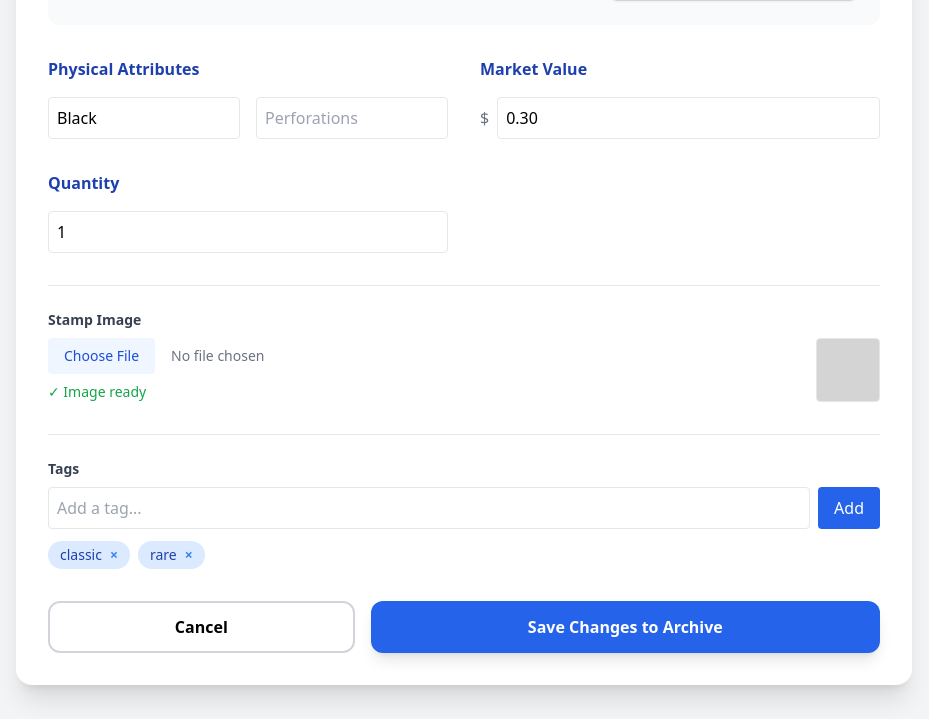
Test: EditStampPage - tag editing › adds a new tag when Enter is pressed
(page scrolled)
Type "penny" into the field with placeholder "Add a tag..." at point(429, 508), box [48,487,810,529]
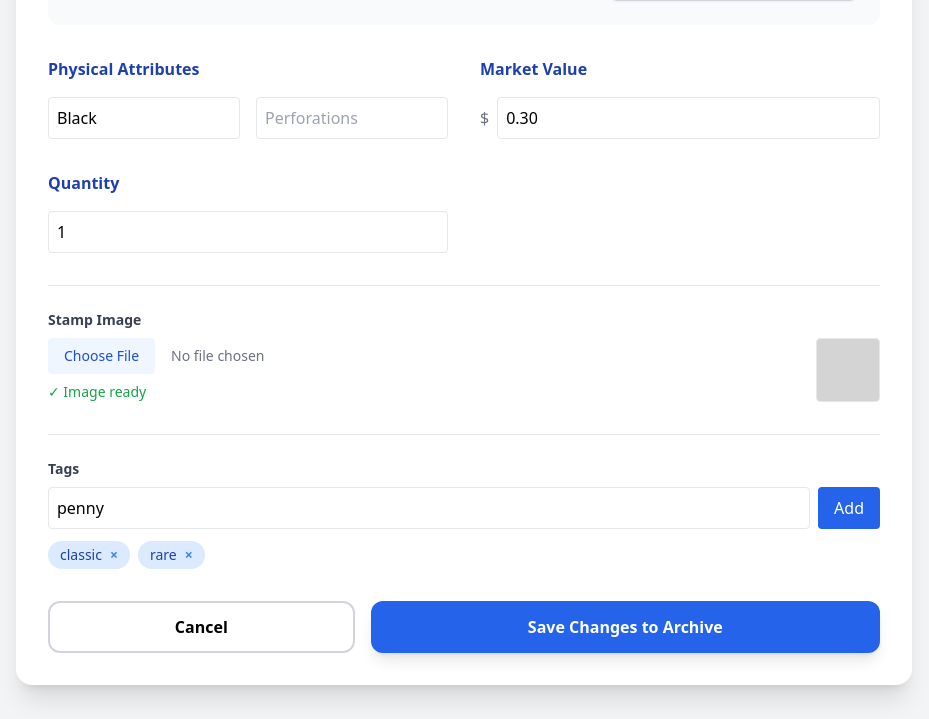
Press Enter in the field with placeholder "Add a tag..." below "Tags", box [48,487,810,529]
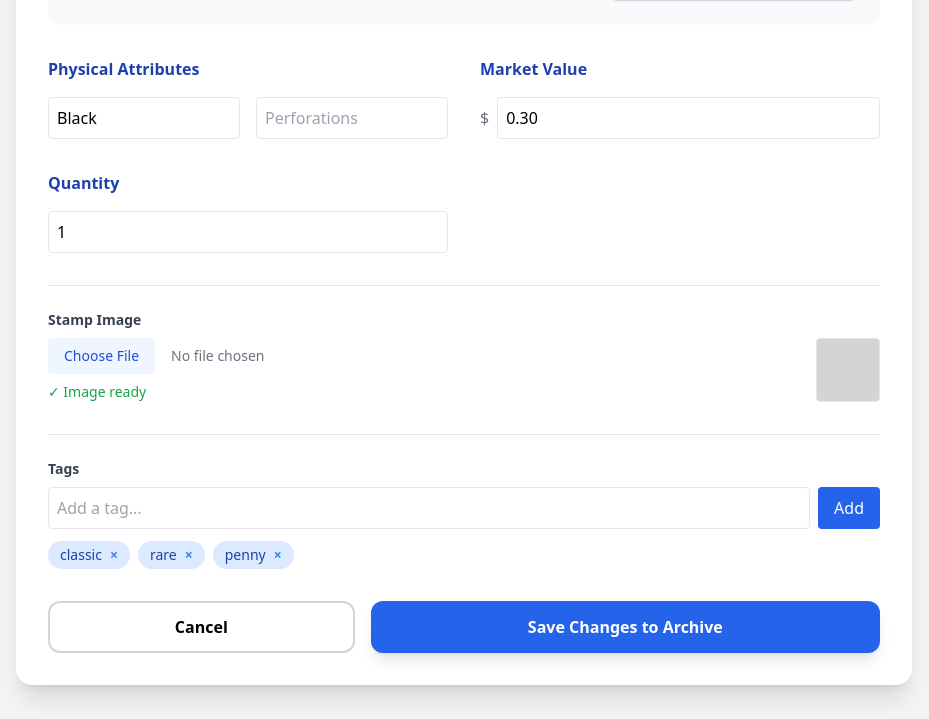
Check: the text "penny" is shown, box [225,545,266,564]
